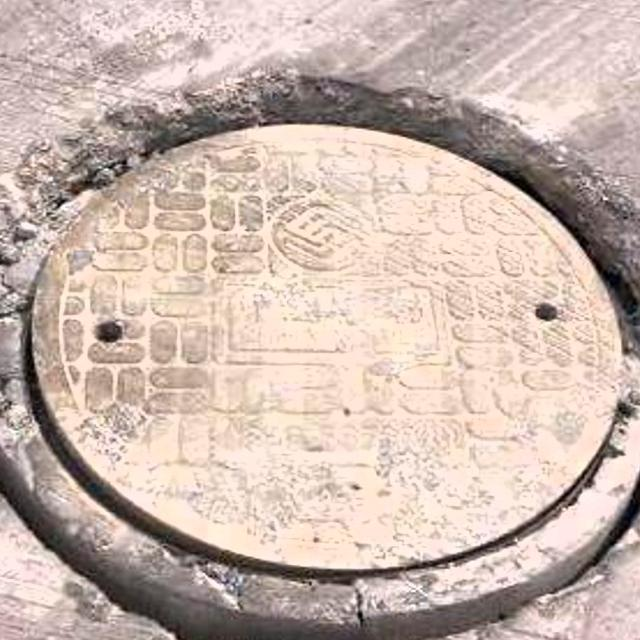circle: (0, 78, 640, 640)
